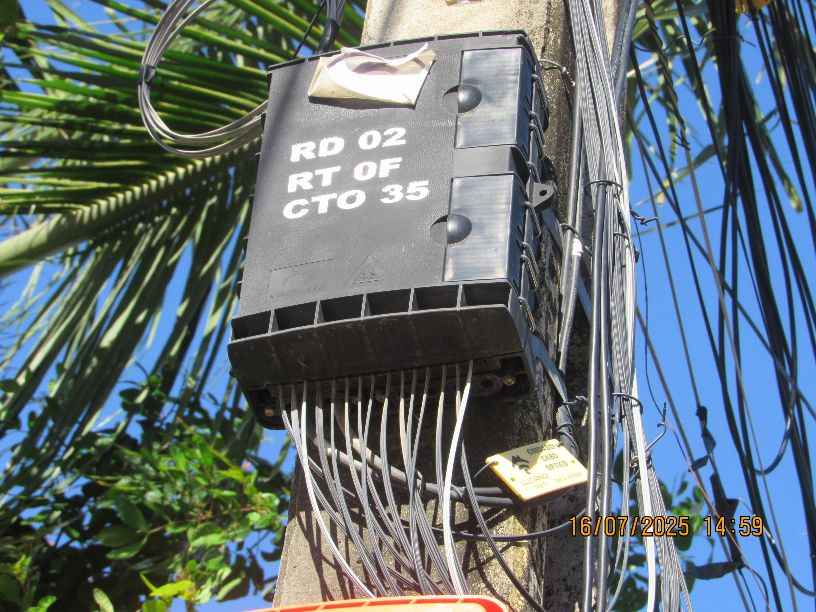caixa_derivacao: (228, 30, 549, 430)
